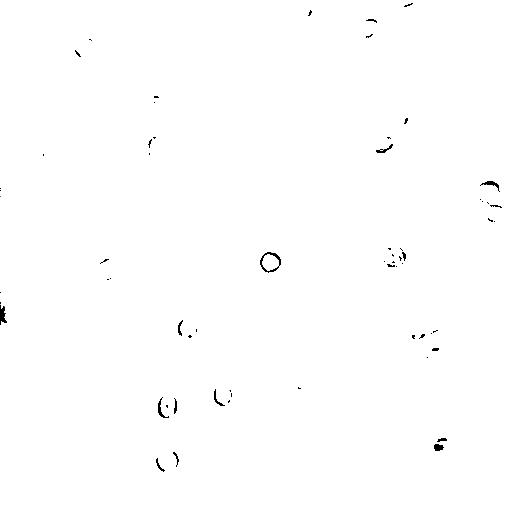micro-algae: (306, 354, 342, 399), (16, 223, 49, 259), (121, 308, 156, 339), (0, 283, 18, 342), (91, 253, 124, 281), (70, 32, 100, 60), (474, 179, 504, 206), (83, 298, 112, 324), (381, 243, 409, 269), (402, 109, 425, 140), (421, 328, 449, 351), (287, 379, 314, 402), (155, 449, 180, 473), (212, 382, 234, 409), (147, 134, 168, 162), (259, 250, 283, 274), (156, 393, 178, 419), (357, 16, 381, 39), (483, 202, 509, 223), (427, 346, 447, 373), (176, 317, 199, 339), (1, 300, 21, 324), (374, 134, 396, 155), (409, 352, 431, 373), (406, 317, 424, 340), (42, 141, 59, 165), (429, 436, 454, 452), (145, 268, 166, 287), (296, 1, 315, 21), (392, 1, 417, 9)
